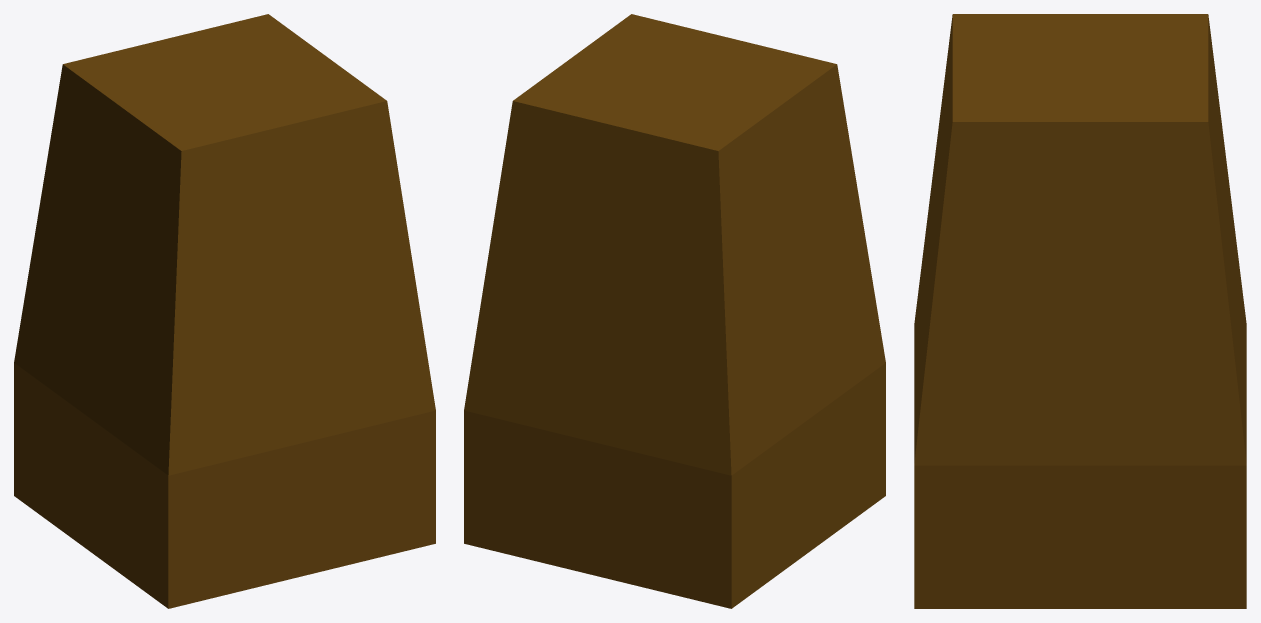
Rendered from WoodWall.fbx.
3 renders of one model, left to right at view 1: azimuth 30°, elevation 25°; view 2: azimuth 150°, elevation 25°; view 3: azimuth 270°, elevation 25°, orthographic. The views are drawn at different scales.
Parts seen in each view (by area): view 1: Tower; view 2: Tower; view 3: Tower.
Boxes of the visible parts, x1,y1,x2,y2 form: Tower: (14,14,435,608); Tower: (464,14,885,608); Tower: (914,14,1246,608).
Size of the model in its own units: 280 by 437 by 280.
